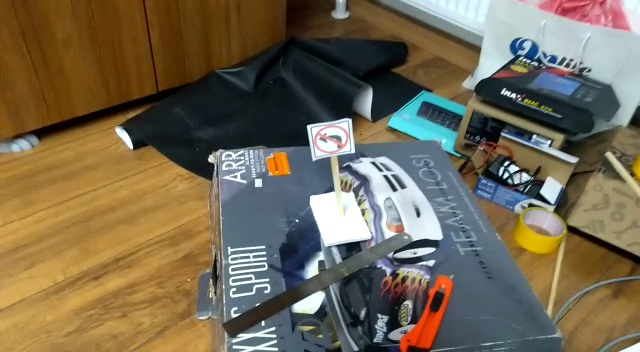sola_donulmez: (311, 120, 351, 154)
